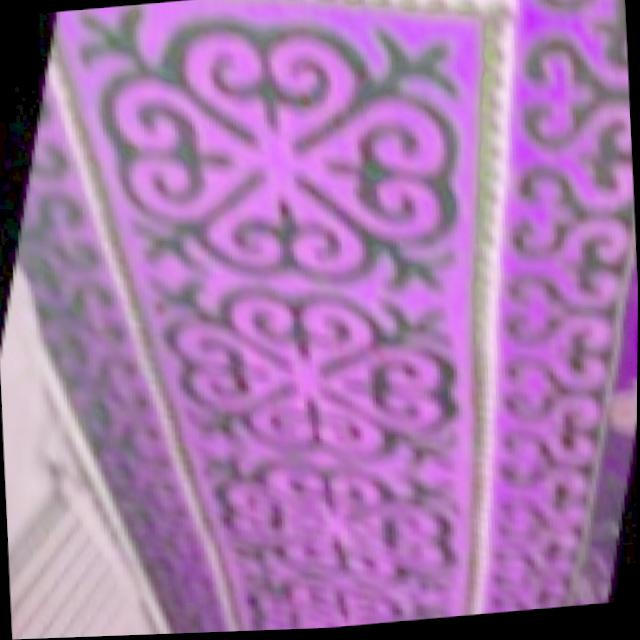Unity: (56, 14, 469, 301), (142, 267, 464, 479)
